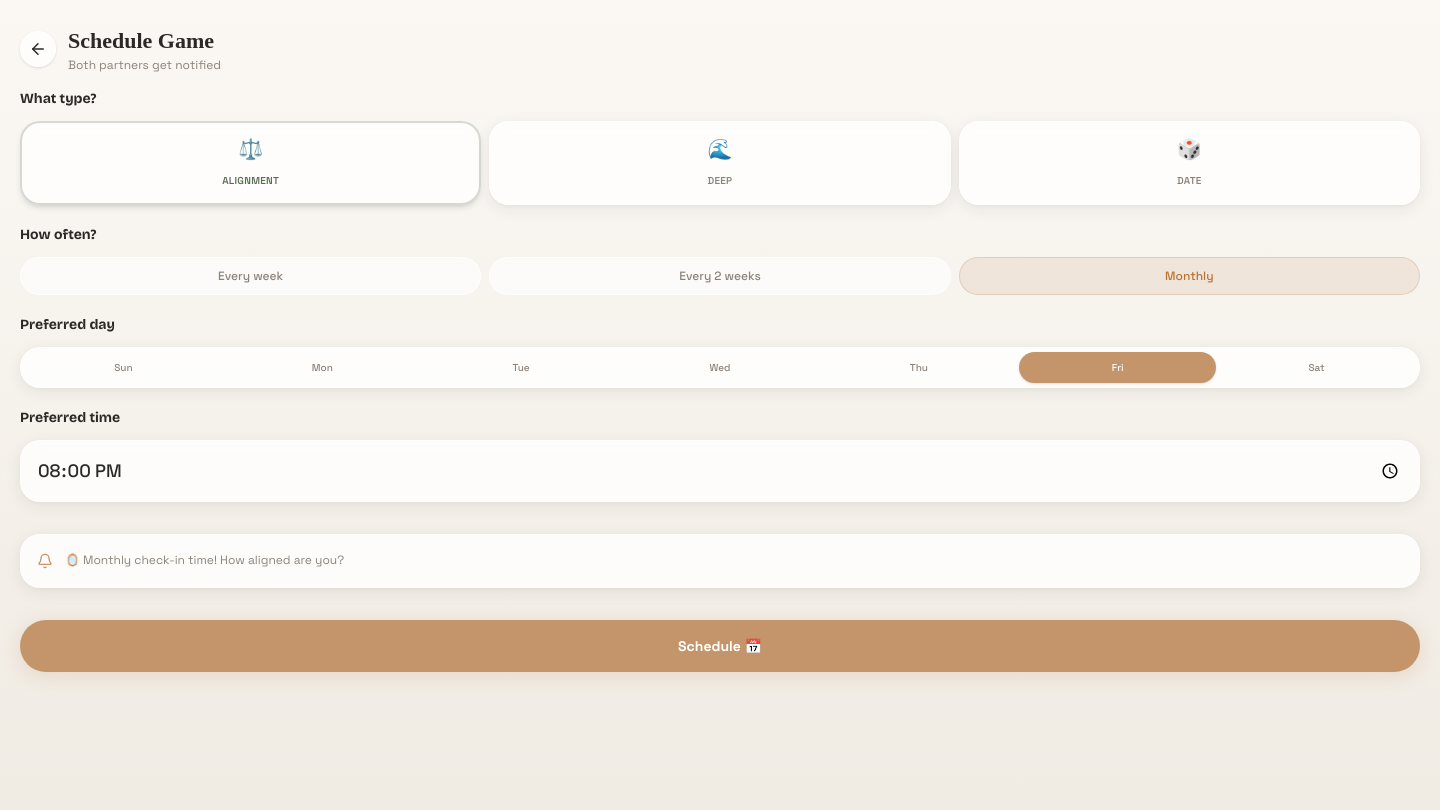
Test: GameScheduleSettings › shows category selector when deep_dive mode selected
Step 1. Click the button "🌊 Deep" → x=720, y=163, box [489,121,951,205]
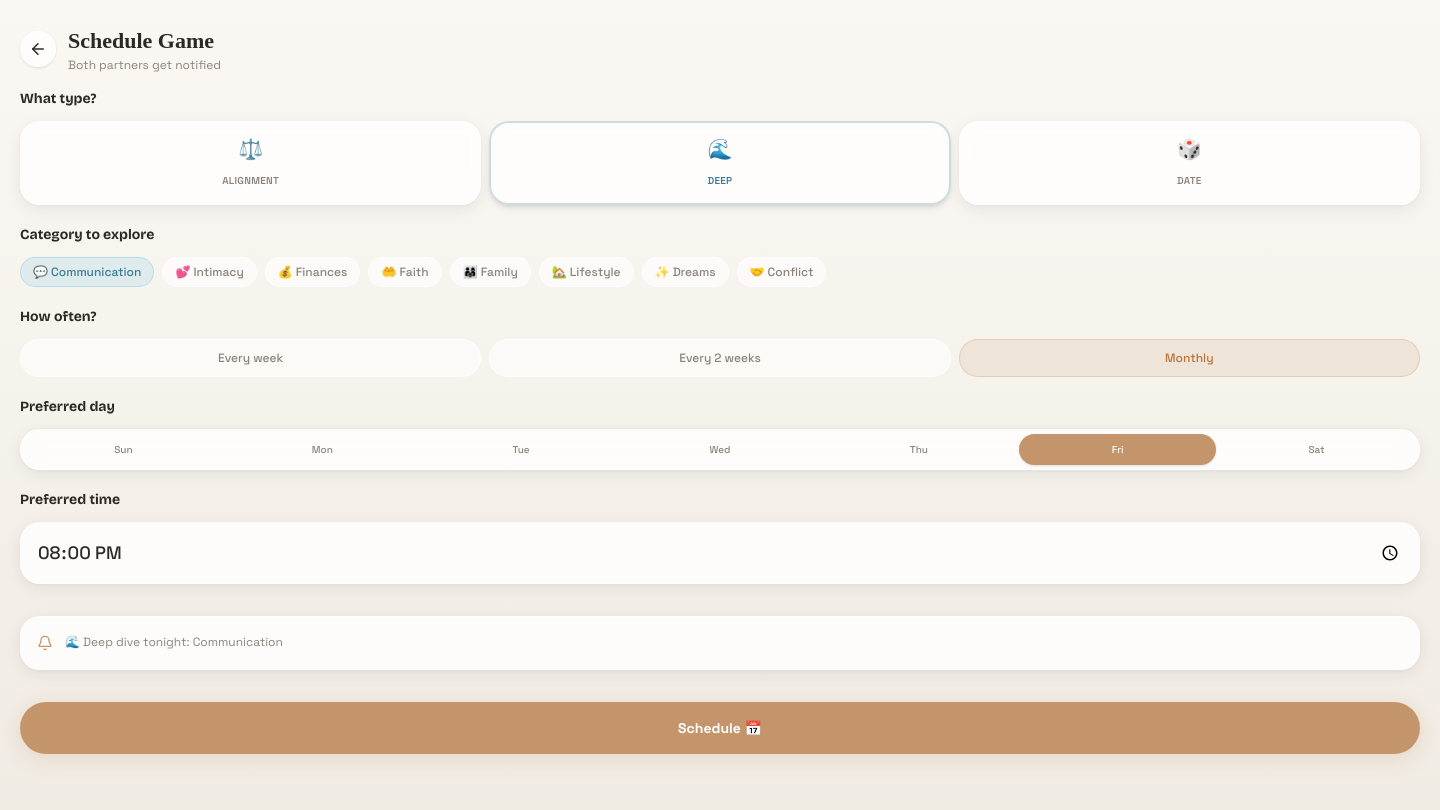
Expected: the heading "Category to explore" is shown, [20,226,154,243]
